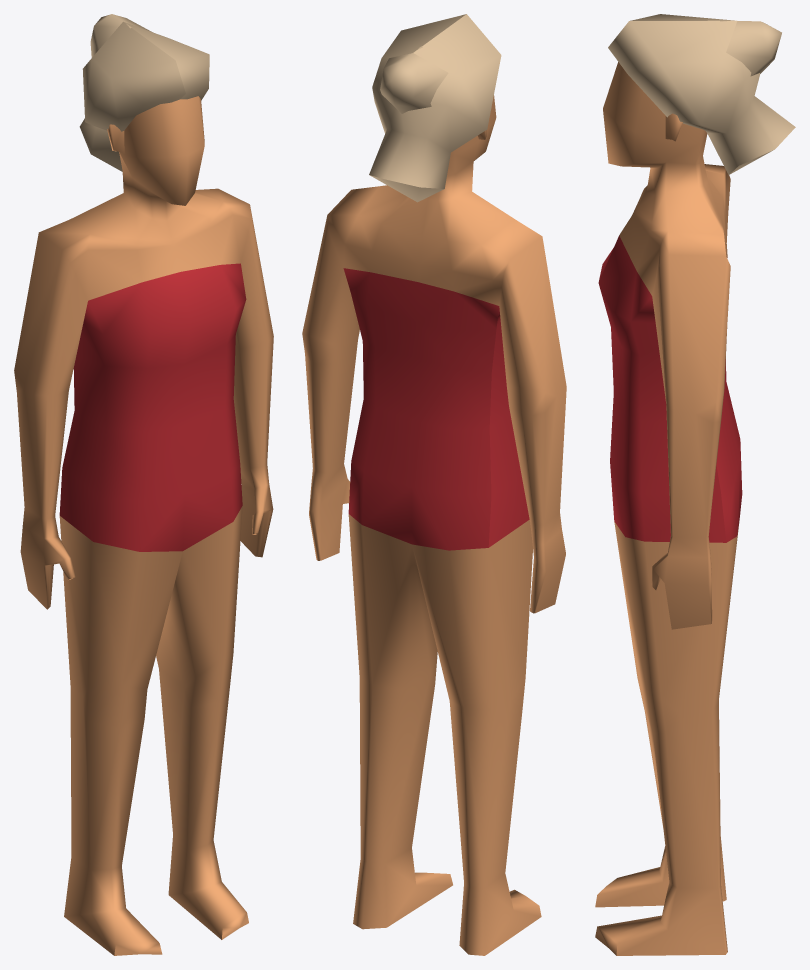
File: woman-swimming-guard.fbx
3 renders of one model, left to right at view 1: azimuth 30°, elevation 25°; view 2: azimuth 150°, elevation 25°; view 3: azimuth 270°, elevation 25°, orthographic. The views are drawn at different scales.
Parts seen in each view (by area): view 1: woman-swimming-guard; view 2: woman-swimming-guard; view 3: woman-swimming-guard.
Part boxes in pixels (<box>): woman-swimming-guard: <box>14,14,273,955</box>; woman-swimming-guard: <box>302,14,566,955</box>; woman-swimming-guard: <box>595,14,795,955</box>.
Size of the model in its own units: 52.87 by 184 by 37.08.
